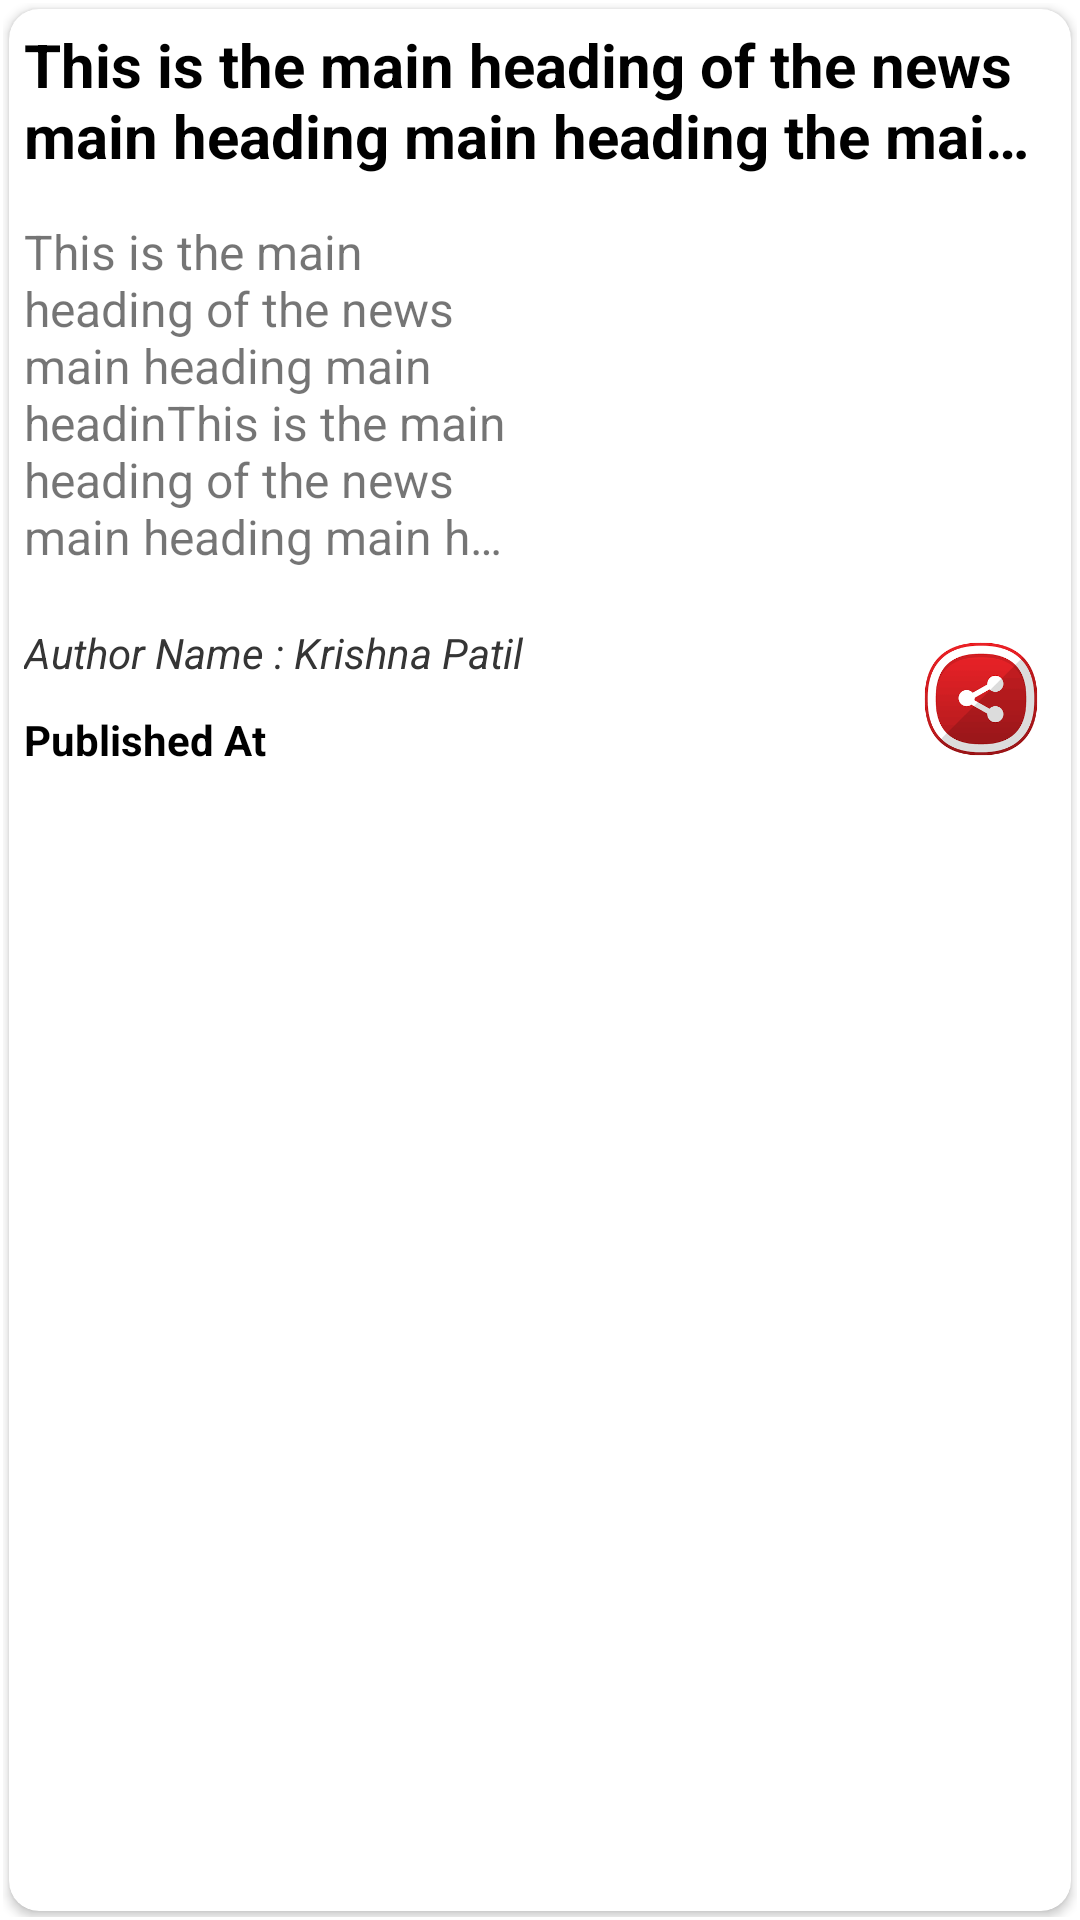

Named icons in this screenshot (1080×1920) and their centers, (x=x, y=y):
share: (x=980, y=698)
